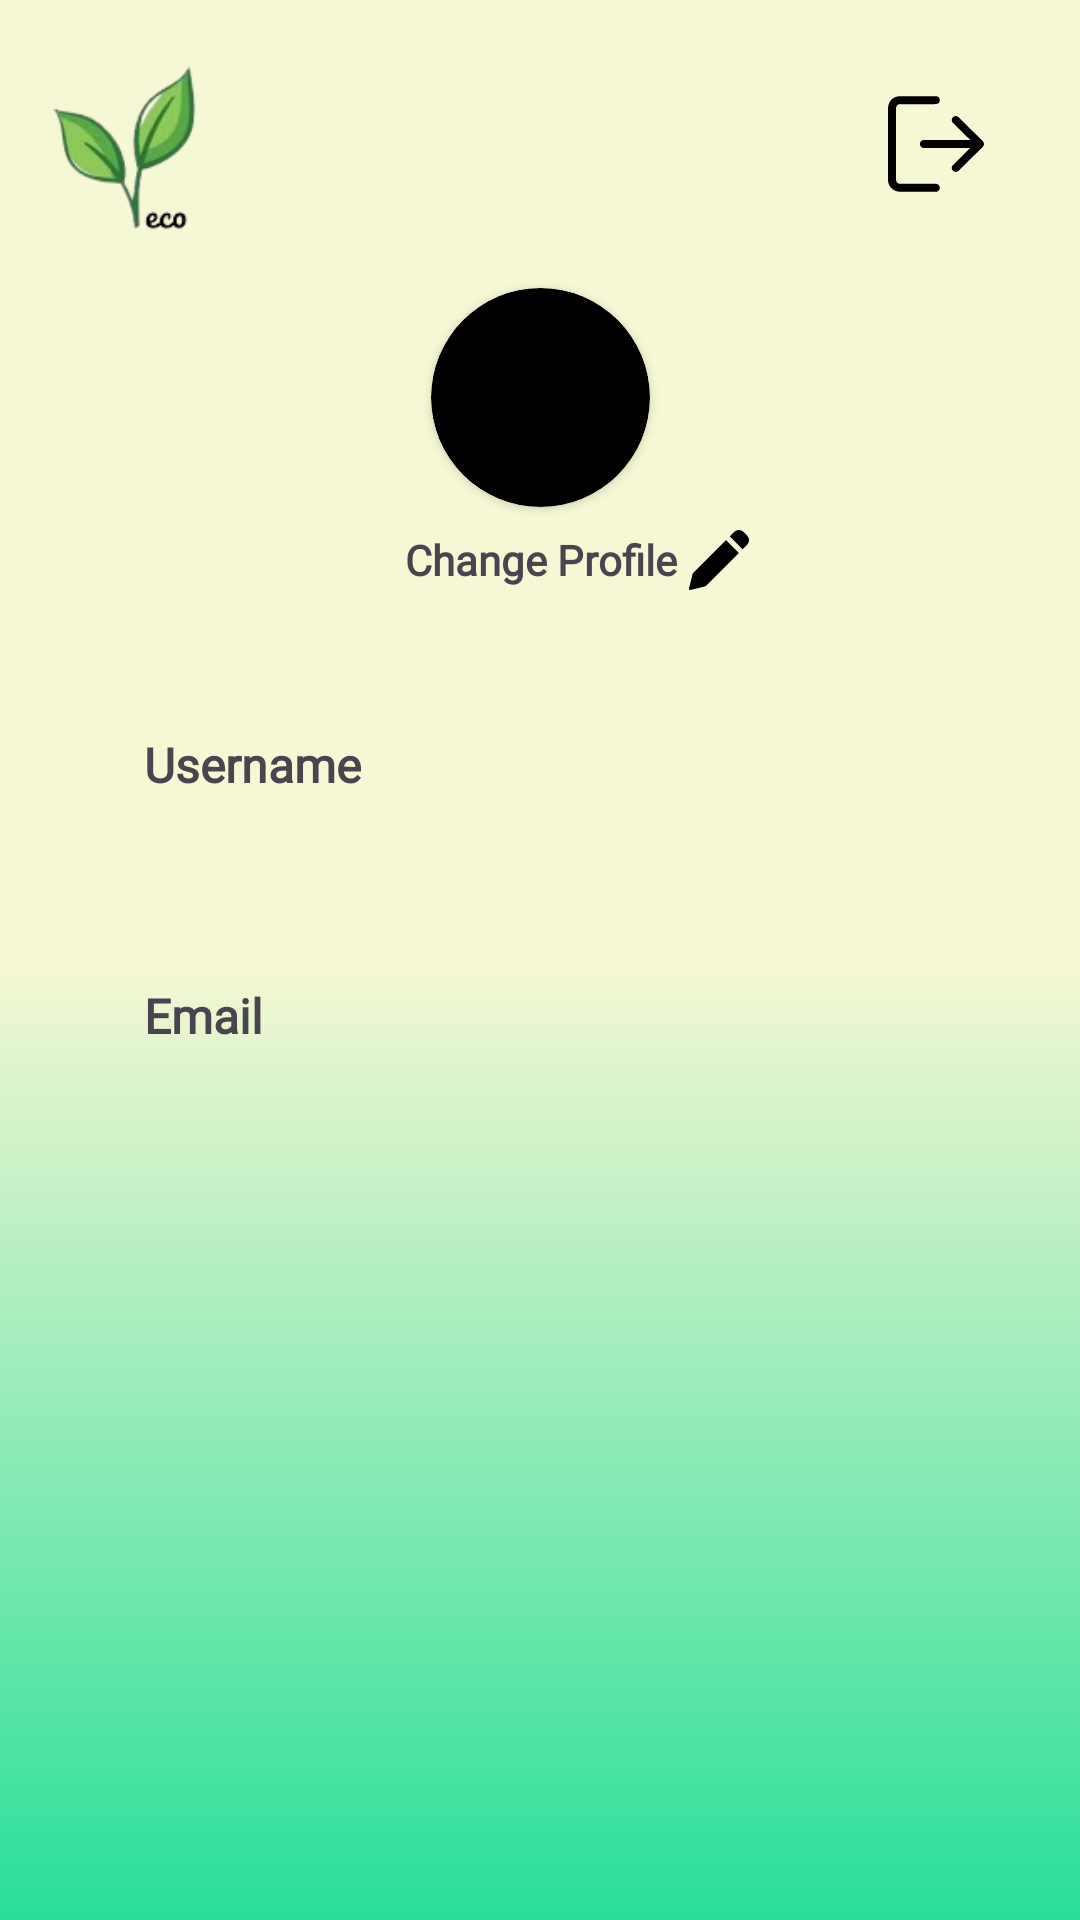

Icons on this 1080x1920 Android screen, each with the point to tap as (x=x, y=y):
edit: (x=719, y=560)
log out: (x=936, y=144)
